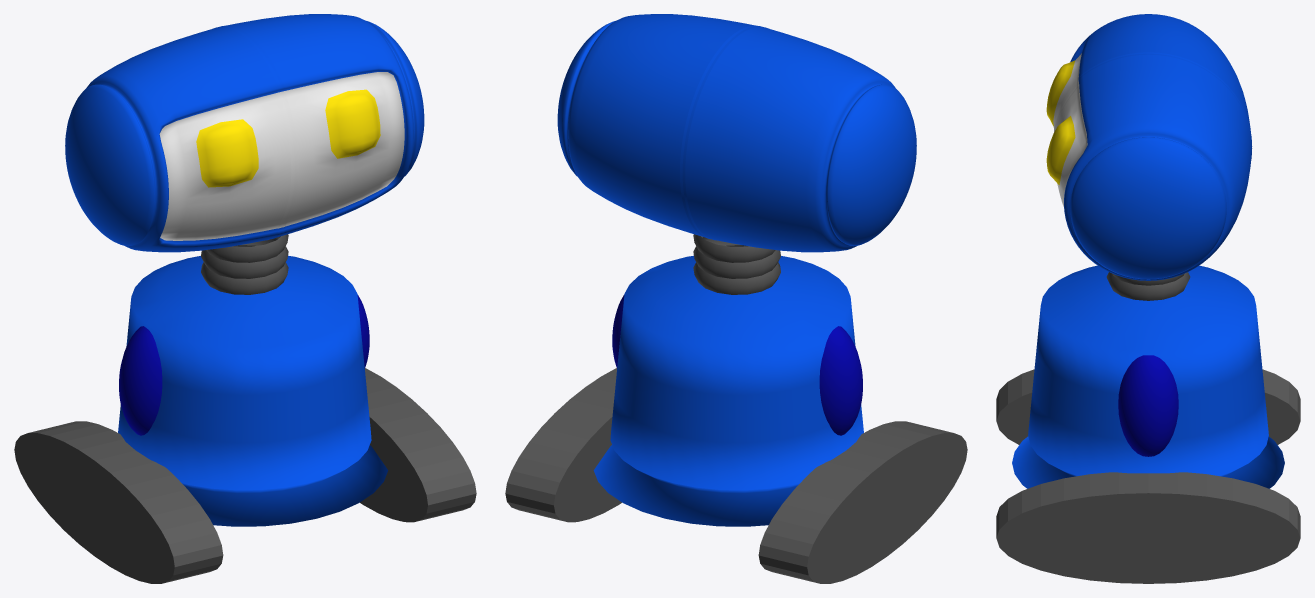
Rendered from Robot2.fbx.
The picture shows the model from 3 angles, left to right: view 1: azimuth 30°, elevation 25°; view 2: azimuth 150°, elevation 25°; view 3: azimuth 270°, elevation 25°; orthographic projection. The views are drawn at different scales.
Visible parts, largest first — view 1: Sphere, Cylinder, Cylinder.001, Arms, Circle; view 2: Sphere, Cylinder, Cylinder.001, Arms, Circle; view 3: Sphere, Cylinder, Cylinder.001, Arms, Circle.
Part boxes in pixels (box(x1,y1,x2,y2)): Sphere: box(65, 14, 424, 252); Cylinder: box(118, 255, 388, 526); Cylinder.001: box(14, 368, 476, 583); Arms: box(119, 295, 369, 435); Circle: box(201, 234, 288, 294); Sphere: box(557, 14, 916, 252); Cylinder: box(593, 255, 863, 526); Cylinder.001: box(505, 368, 967, 583); Arms: box(612, 295, 862, 435); Circle: box(693, 234, 780, 294); Sphere: box(1046, 14, 1252, 280); Cylinder: box(1012, 265, 1284, 488); Cylinder.001: box(996, 369, 1300, 583); Arms: box(1118, 355, 1178, 456); Circle: box(1106, 272, 1190, 300).
Size of the model in its own units: 410 by 589 by 353.
